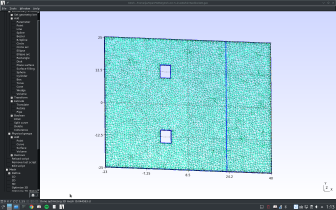

This screenshot's page, from the dashboard's own definition file:
{"tool":"tableau","page":{"name":"Dashboard 1","canvas":[1000,1600],"ordinal":0},"visuals":[{"type":"worksheet","title":"Validation","mark":"Line","rows":["mse","Calculation_1141662536660291584"],"cols":["frame"],"box":[8,8,824,790.4]},{"type":"legend","title":"Validation","param":"[federated.0n5z2dc1lo2dqd1fcygzv13qc5td].[none:type:nk]","box":[832,8,160,93]},{"type":"text","box":[832,101,160,428]},{"type":"worksheet","title":"Table","mark":"Square","rows":["type","frame"],"box":[8,798.4,824,793.6]},{"type":"legend","title":"Table","param":"[federated.0n5z2dc1lo2dqd1fcygzv13qc5td].[sum:Calculation_1141662536660291584:qk","box":[832,798.4,160,75]},{"type":"legend","title":"Table","param":"[federated.0n5z2dc1lo2dqd1fcygzv13qc5td].[sum:mse:qk]","box":[832,873.4,160,718.6]}]}

Visuals, with their boxes on the page's 1000x1600 design canvas (x1, y1, x2, y2). These are canvas units, not pixel positions in the 336x210 screenshot, which may show the page scaled, cropped or inside an application window:
"Validation" worksheet (Line marks): locate(8, 8, 832, 798)
"Validation" legend: locate(832, 8, 992, 101)
text: locate(832, 101, 992, 529)
"Table" worksheet (Square marks): locate(8, 798, 832, 1592)
"Table" legend: locate(832, 798, 992, 873)
"Table" legend: locate(832, 873, 992, 1592)
